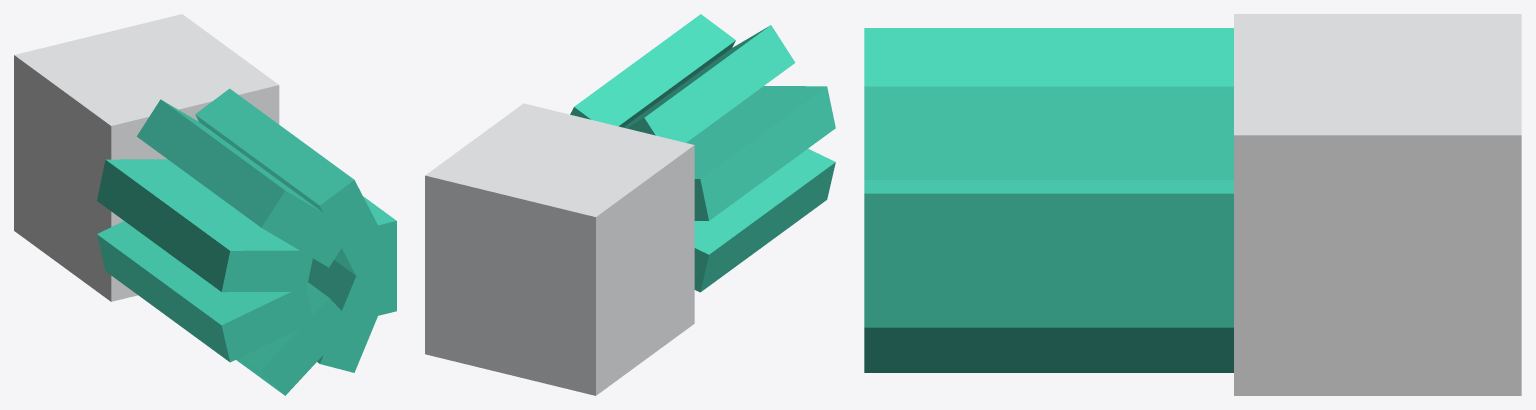
Rendered from plant.glb.
The picture shows the model from 3 angles, left to right: view 1: azimuth 30°, elevation 25°; view 2: azimuth 150°, elevation 25°; view 3: azimuth 270°, elevation 25°; orthographic projection. The views are drawn at different scales.
Visible parts, largest first — view 1: pot_0, leaf_6, leaf_3, leaf_2, leaf_5, leaf_7, leaf_4, leaf_1; view 2: pot_0, leaf_6, leaf_3, leaf_2, leaf_5; view 3: pot_0, leaf_1, leaf_5, leaf_2, leaf_4.
Part boxes in pixels (x1,y1,x2,y2): pot_0: [14, 14, 279, 301]; leaf_6: [97, 159, 312, 292]; leaf_3: [97, 221, 314, 362]; leaf_2: [137, 99, 352, 267]; leaf_5: [195, 88, 391, 277]; leaf_7: [236, 282, 349, 395]; leaf_4: [308, 258, 391, 372]; leaf_1: [358, 196, 396, 320]; pot_0: [425, 103, 694, 395]; leaf_6: [686, 86, 835, 220]; leaf_3: [694, 148, 835, 292]; leaf_2: [624, 25, 795, 142]; leaf_5: [570, 14, 735, 127]; pot_0: [1234, 14, 1521, 395]; leaf_1: [864, 180, 1233, 327]; leaf_5: [864, 86, 1233, 179]; leaf_2: [864, 28, 1233, 86]; leaf_4: [864, 327, 1233, 372].
Size of the model in its own units: 0.3798 by 0.4088 by 0.8.
